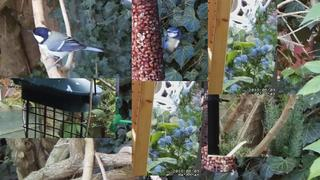blue tit: (158, 27, 181, 60)
great tit: (27, 27, 105, 71)
